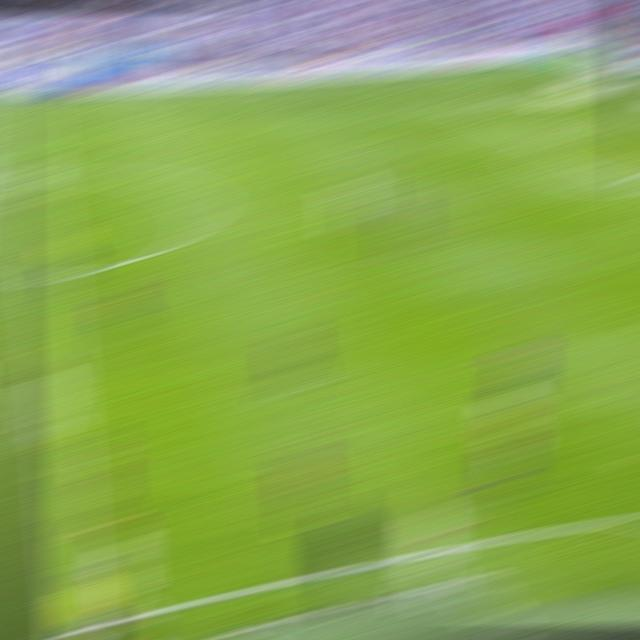bigarea_top_inner: (455, 100, 484, 106)
halfcircle_bottom: (30, 266, 65, 286)
halfcircle_top: (24, 171, 54, 180)
midline_top_intersection: (16, 98, 46, 105)
top_arc_area_intersection: (526, 129, 557, 140)
